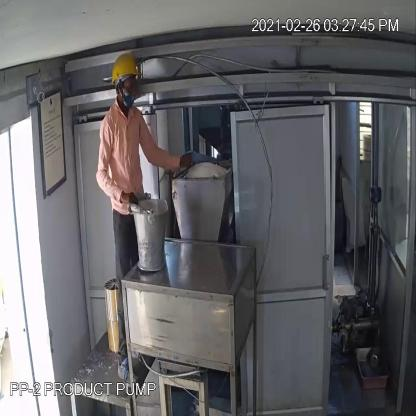helmet: (109, 53, 143, 86)
